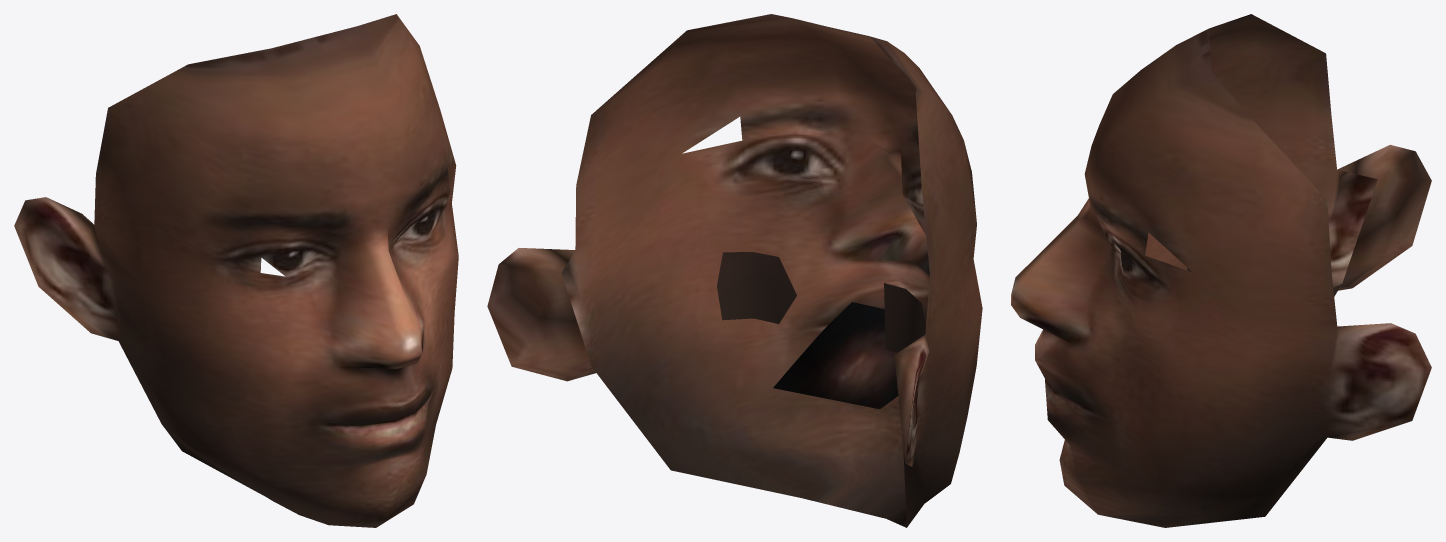
File: fra-olise.glb
3 views of the same model, side by side, from view 1: azimuth 30°, elevation 25°; view 2: azimuth 150°, elevation 25°; view 3: azimuth 270°, elevation 25° (orthographic). The views are drawn at different scales.
Visible parts, largest first — view 1: fra-olise; view 2: fra-olise; view 3: fra-olise.
Boxes of the visible parts, left/top/right/bottom form: fra-olise: left=14, top=14, right=458, bottom=527; fra-olise: left=487, top=14, right=982, bottom=527; fra-olise: left=1011, top=14, right=1431, bottom=527.
Size of the model in its own units: 0.1651 by 0.187 by 0.1555.
1 material, 1 textured.
